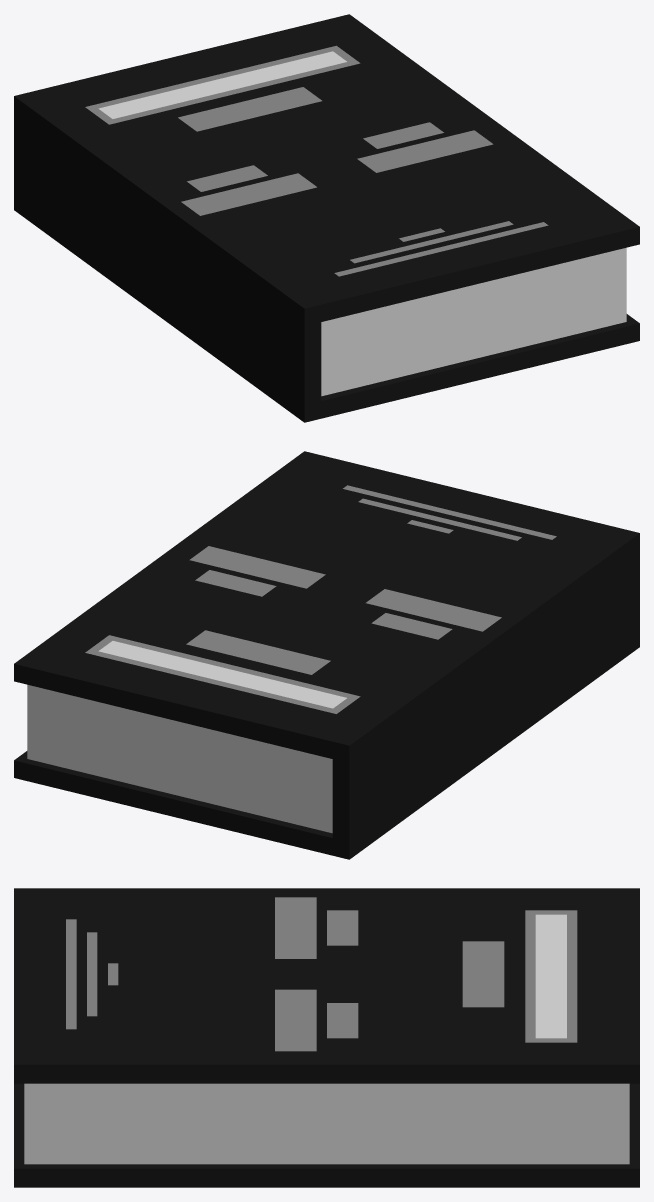
File: Book3.obj
3 views of the same model, one above another, from view 1: azimuth 30°, elevation 25°; view 2: azimuth 150°, elevation 25°; view 3: azimuth 270°, elevation 25° (orthographic). The views are drawn at different scales.
Bounding box in the file's own units: 4 × 1.3 × 6.
Materials: 1 (1 with a texture image).
